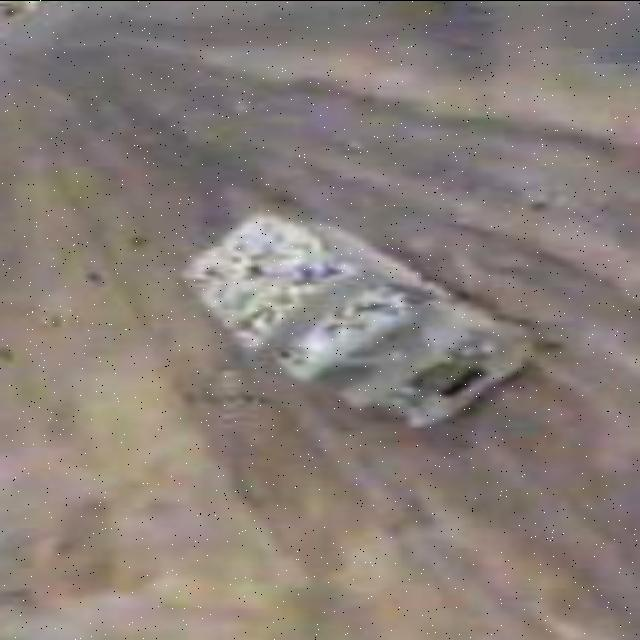TRUCK: (177, 208, 528, 428)
